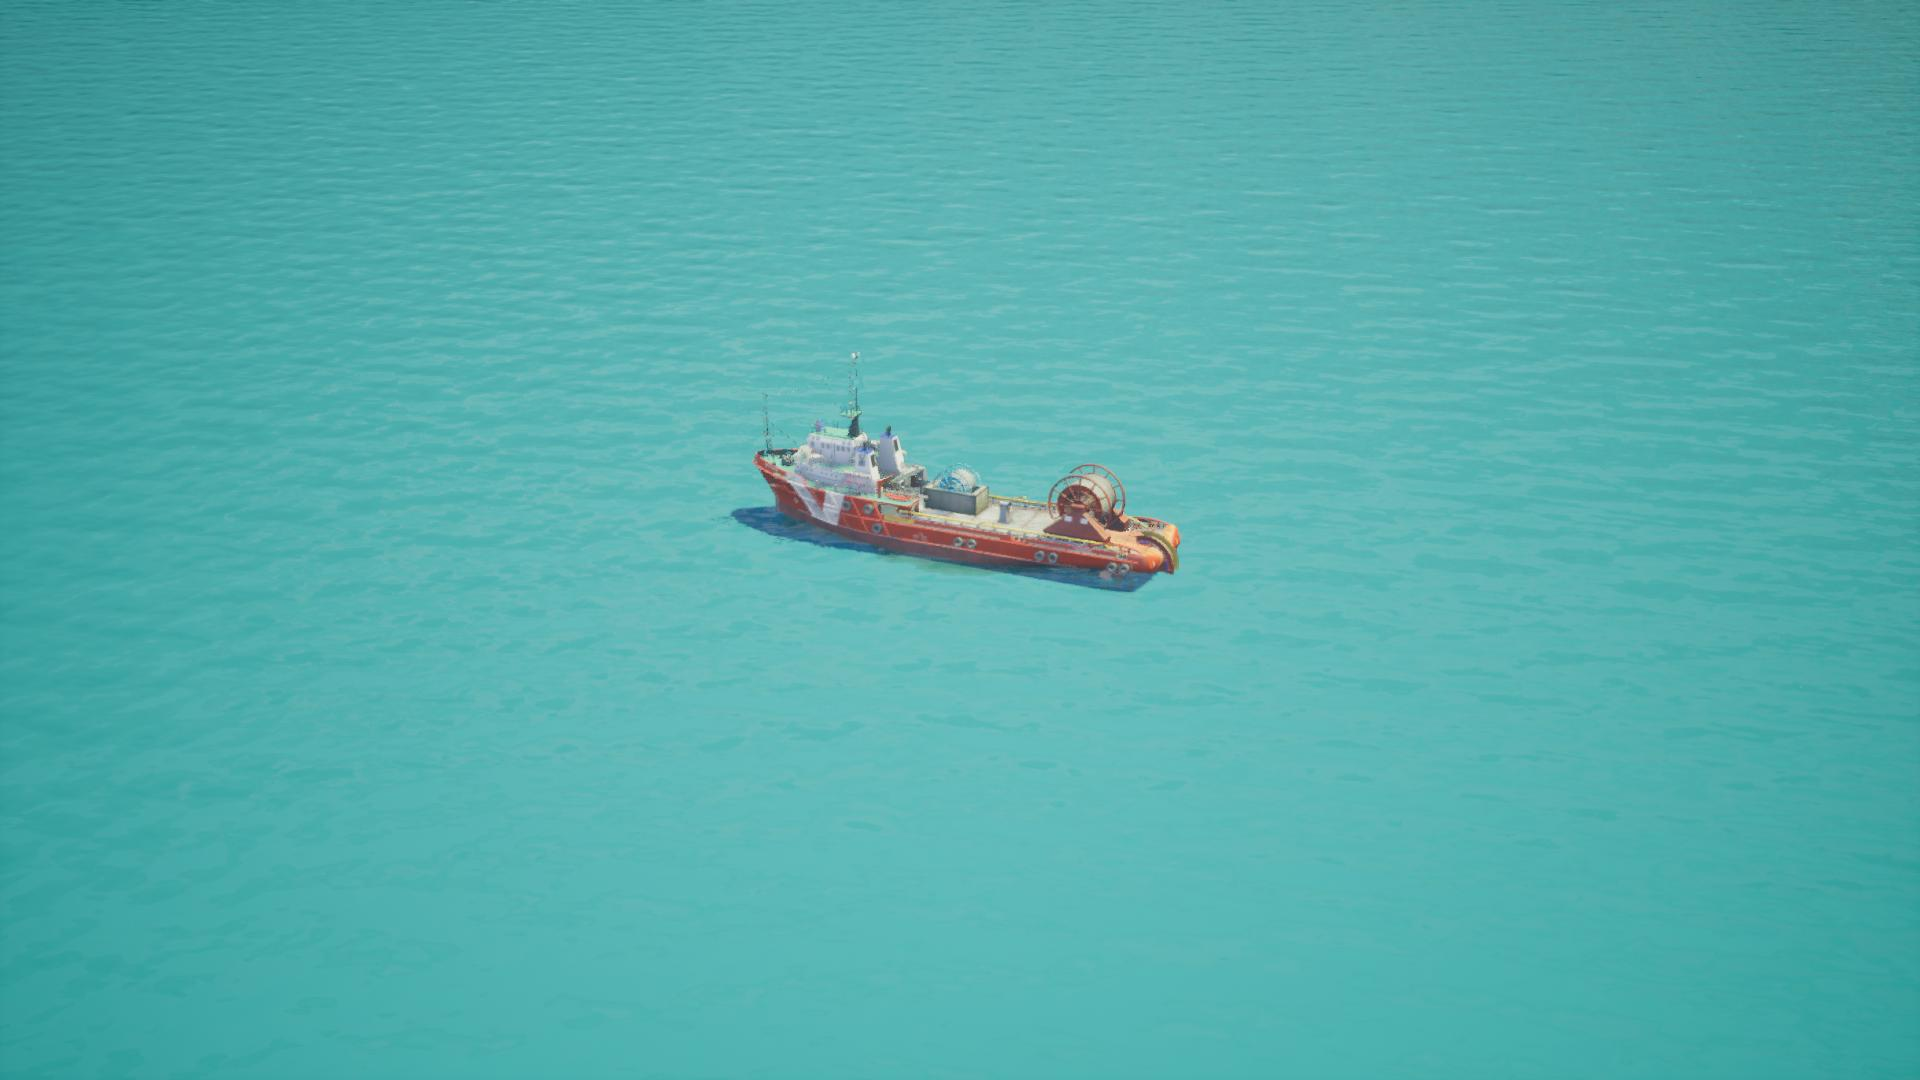Tug Boat: (731, 344, 1176, 589)
